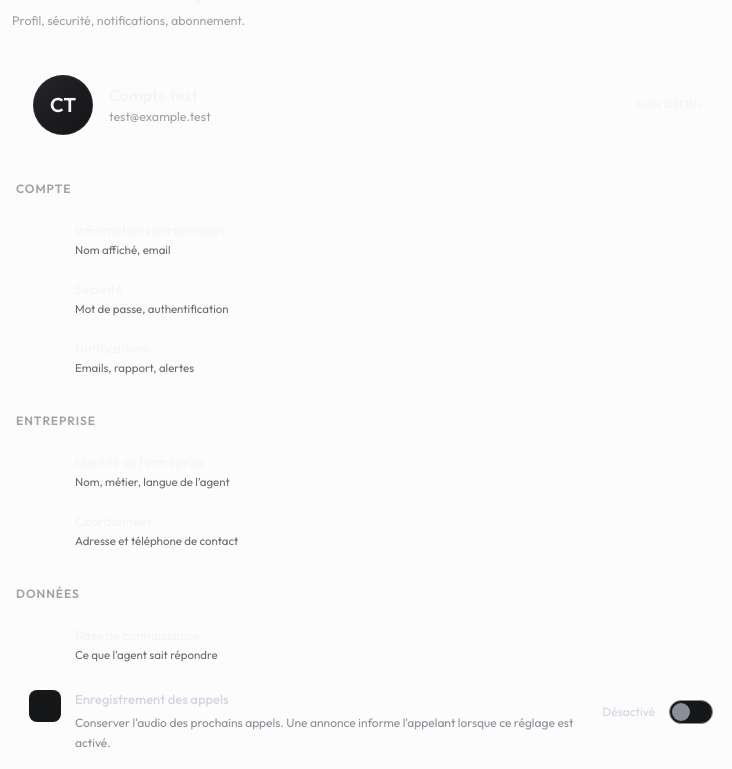
Test case: ClientAccount boolean settings › should stay disabled until read-back finishes, then mark the recording state unknown if confirmation fails
The image size is (732, 769).
What coordinates should you click on to do the following:
click the switch named "Enregistrement des appels"
I would click on:
 (691, 712)
Its box is [667,690,715,734].
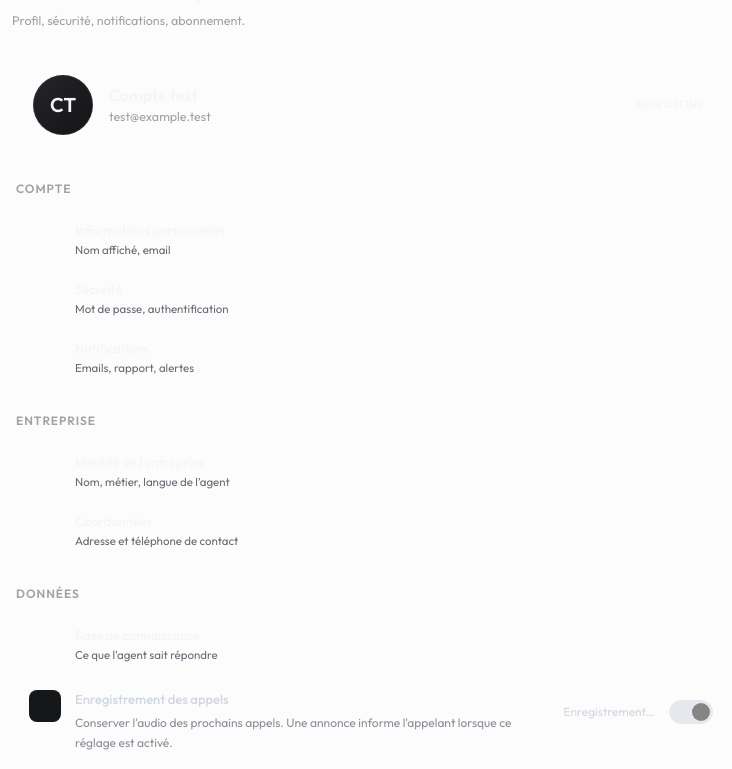
Check: the switch named "Enregistrement des appels" is disabled
What coordinates should you click on to do the following:
click the switch named "Enregistrement des appels"
I would click on:
 (691, 712)
Its box is [667,690,715,734].
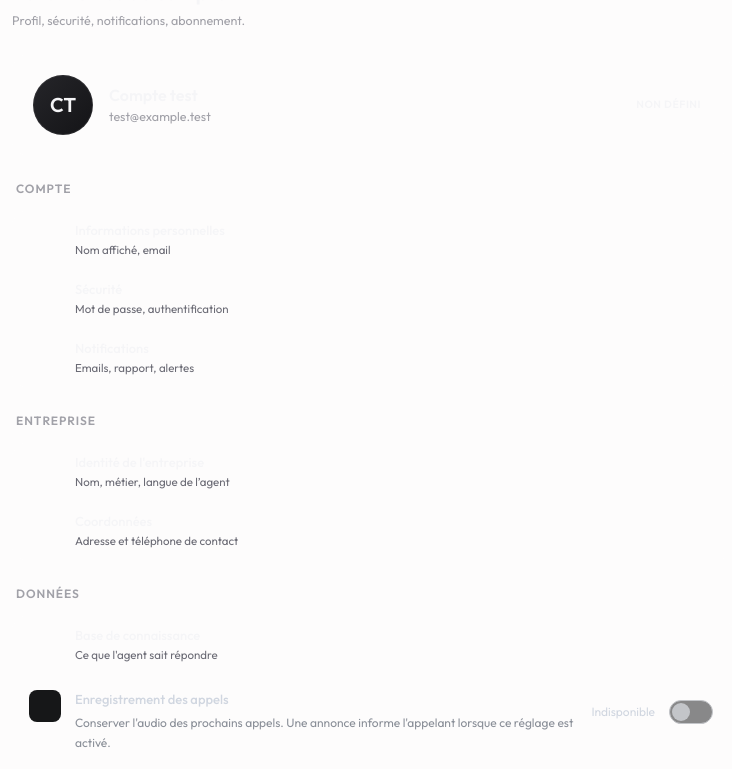
Check: the switch named "Enregistrement des appels" is not checked, box [667,690,715,734]
Check: the switch named "Enregistrement des appels" is disabled, box [667,690,715,734]
Check: the text "Indisponible" is shown, box [591,703,655,721]
